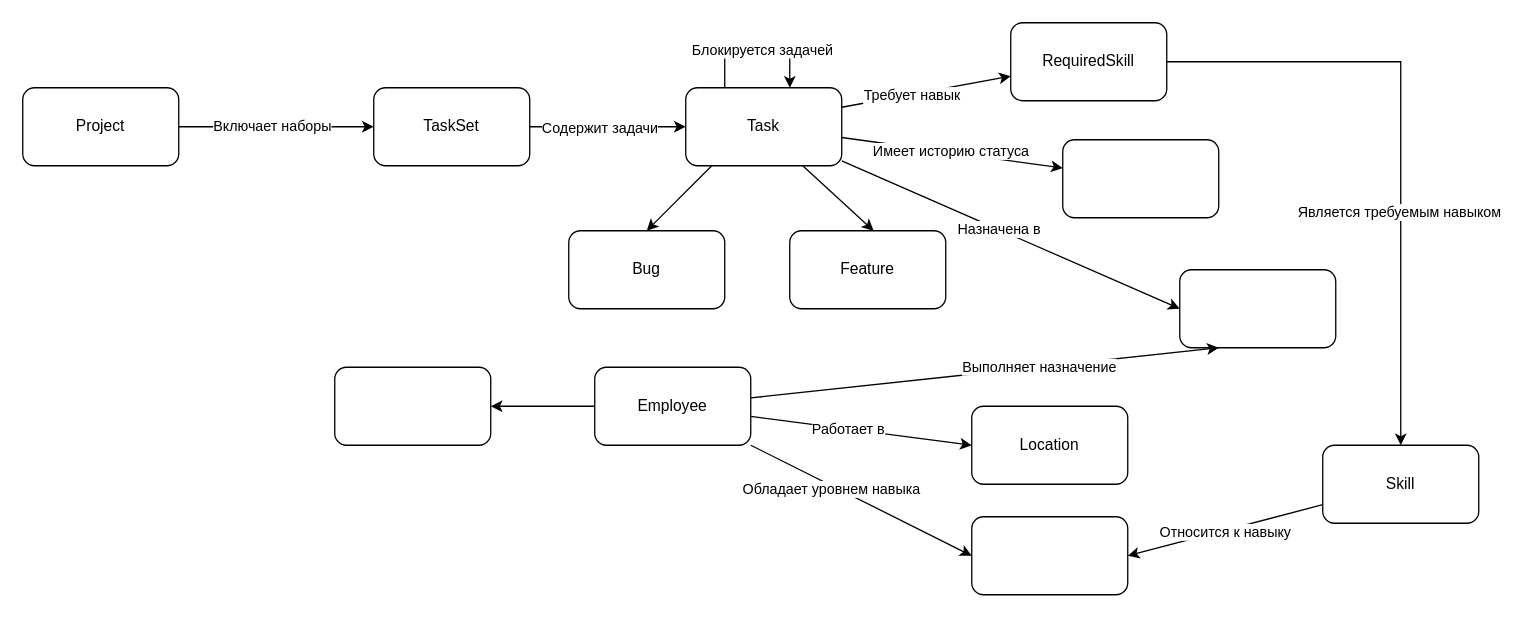
Image size: 1522x618. Some labels were removed from this diagram. The shapes that lost their labels are listed below. From the top down, each one's centre as x and y in pixels, then its label:
At point (1140, 178): "TaskStatusHistory".
At point (1257, 308): "Assignement".
At point (412, 405): "Должность".
At point (1049, 555): "EmployeeSkill".
